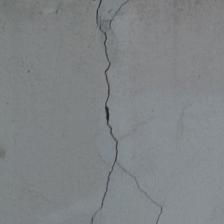Crack: (51, 45, 164, 224), (0, 22, 143, 81)
